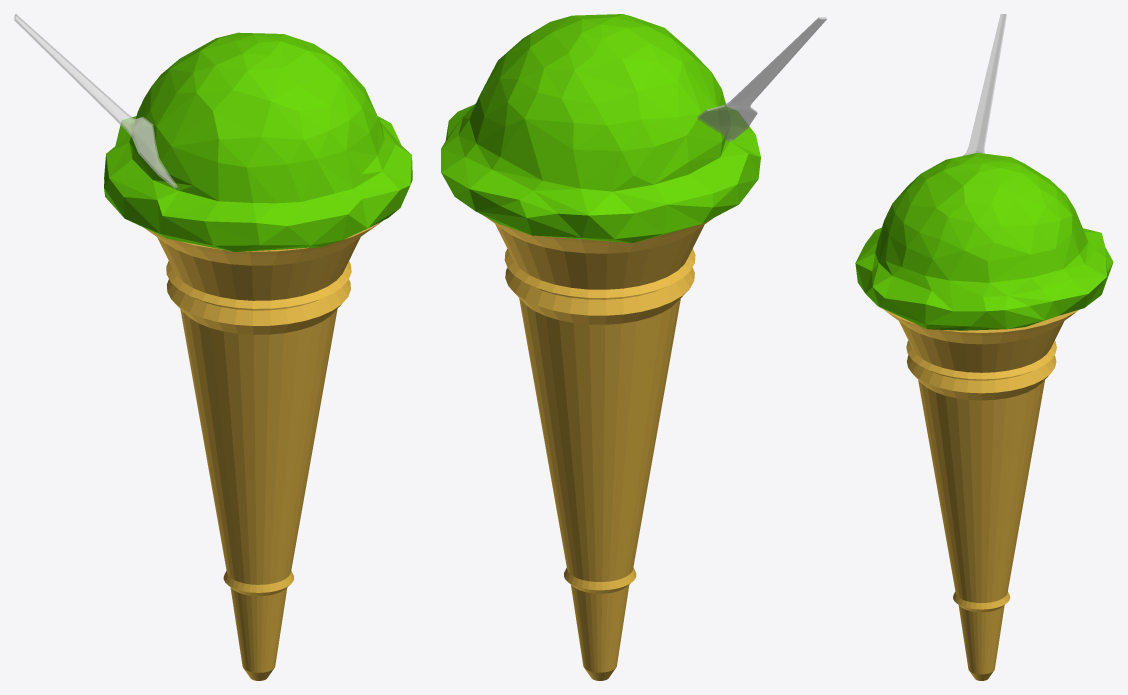
The model's file is ice_macha.glb.
3 renders of one model, left to right at view 1: azimuth 30°, elevation 25°; view 2: azimuth 150°, elevation 25°; view 3: azimuth 270°, elevation 25°, orthographic. The views are drawn at different scales.
Parts seen in each view (by area): view 1: ice, corn, 平面; view 2: ice, corn, 平面; view 3: ice, corn, 平面.
Part boxes in pixels (box(x1,y1,x2,y2)): ice: box(104, 32, 412, 251); corn: box(144, 221, 381, 680); 平面: box(14, 14, 177, 188); ice: box(441, 14, 760, 242); corn: box(486, 217, 712, 680); 平面: box(697, 17, 826, 141); ice: box(855, 153, 1113, 330); corn: box(883, 309, 1078, 680); 平面: box(963, 14, 1006, 155).
Bounding box in the file's own units: 2.29 × 4.21 × 1.72.
